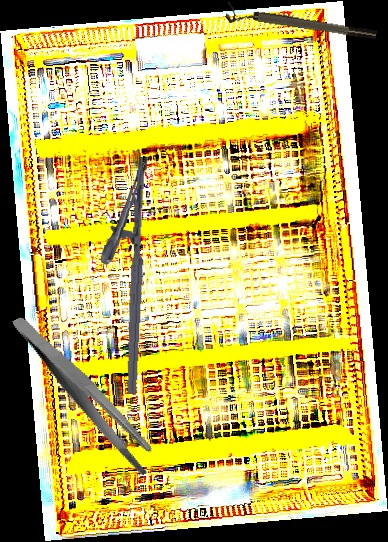Dressing Forceps: (11, 291, 161, 497)
Fixation Ring: (224, 1, 378, 49)
Needle Holder: (92, 154, 151, 395)
